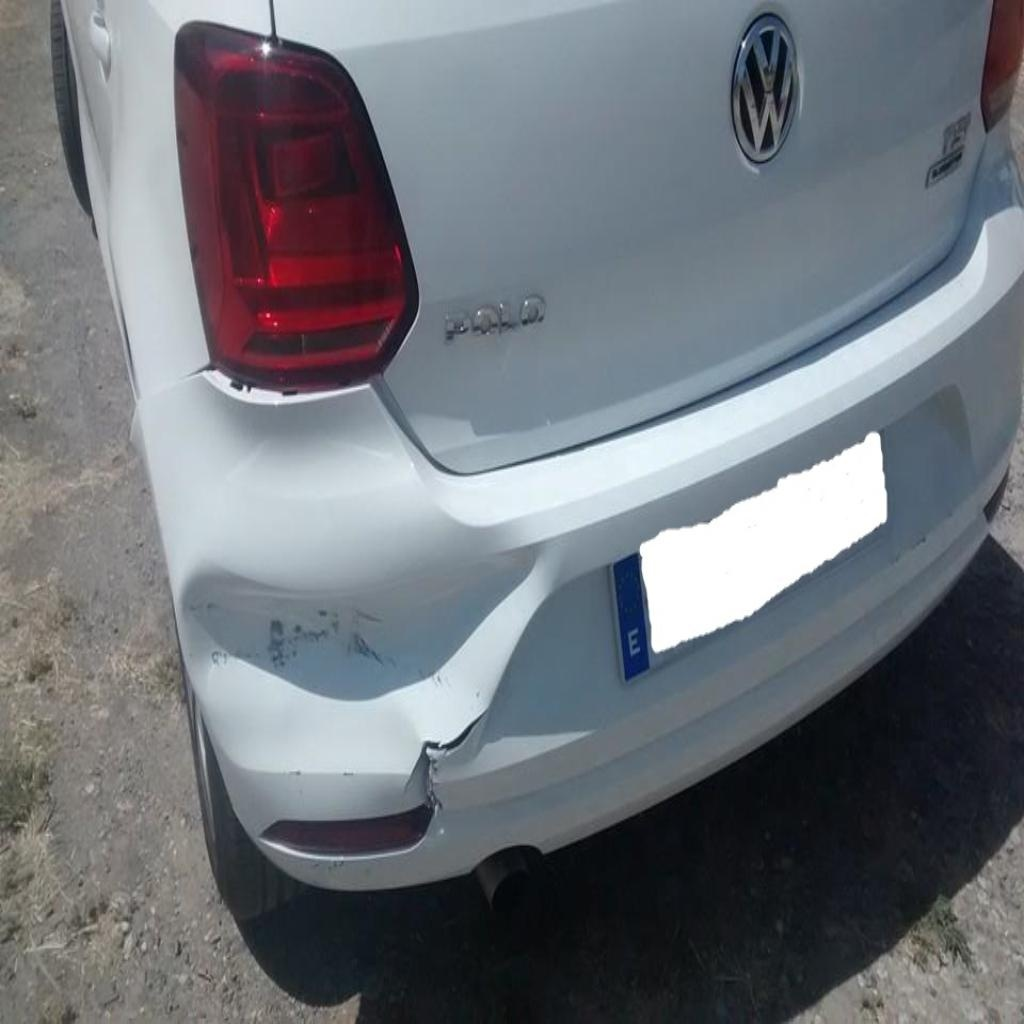Dent: (196, 537, 560, 824)
Scratch: (258, 609, 411, 680)
